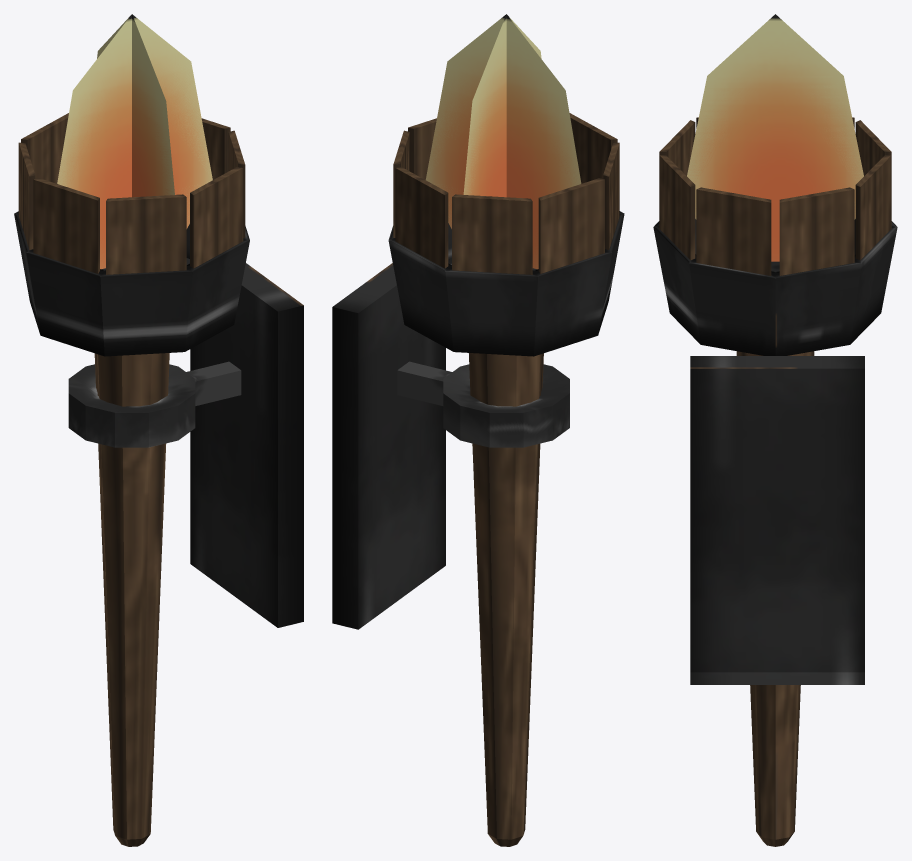
File: SM_torch.fbx
3 views of the same model, side by side, from view 1: azimuth 30°, elevation 25°; view 2: azimuth 150°, elevation 25°; view 3: azimuth 270°, elevation 25° (orthographic).
Visible parts, largest first — view 1: SM_torch; view 2: SM_torch; view 3: SM_torch.
Part boxes in pixels (bbox=[...]): SM_torch: bbox=[14, 14, 303, 846]; SM_torch: bbox=[332, 14, 624, 846]; SM_torch: bbox=[653, 14, 897, 846].
Bounding box in the file's own units: 0.7775 × 2.62 × 0.6998.
